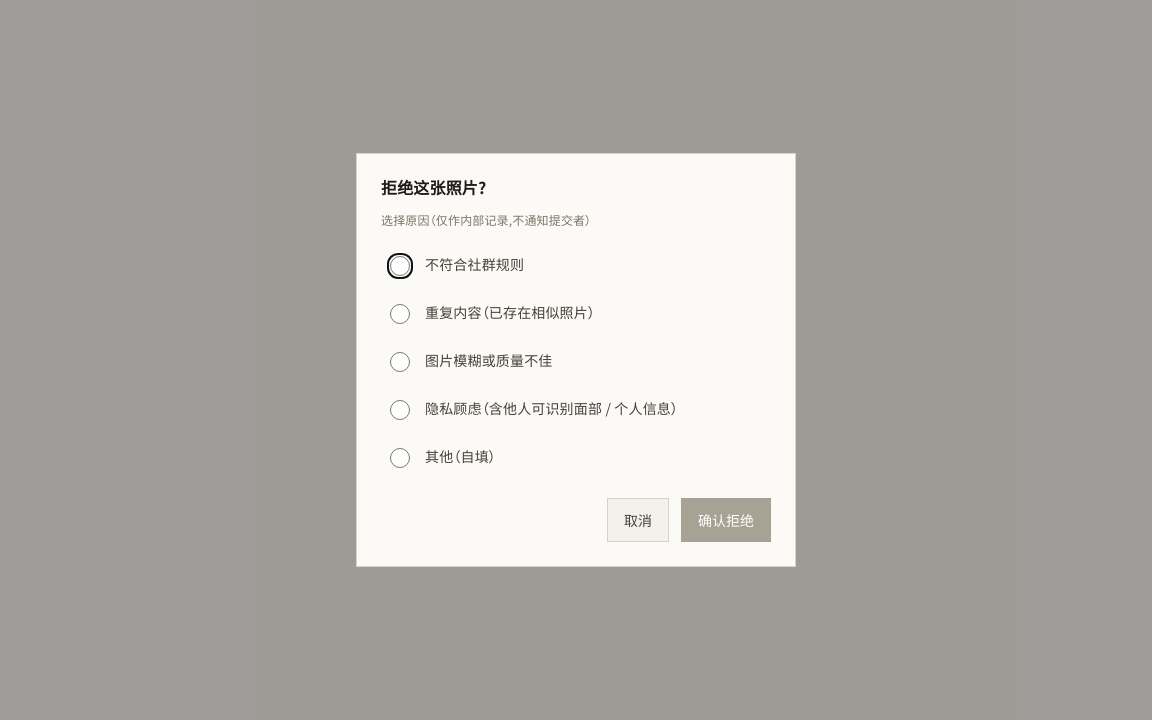
Test case: RejectModal › shows custom textarea when other selected, disables confirm if empty
The width and height of the screenshot is (1152, 720).
Step 1. Click the radio button with test id "rm-reason-other" → (400, 458), box [390, 448, 410, 468]
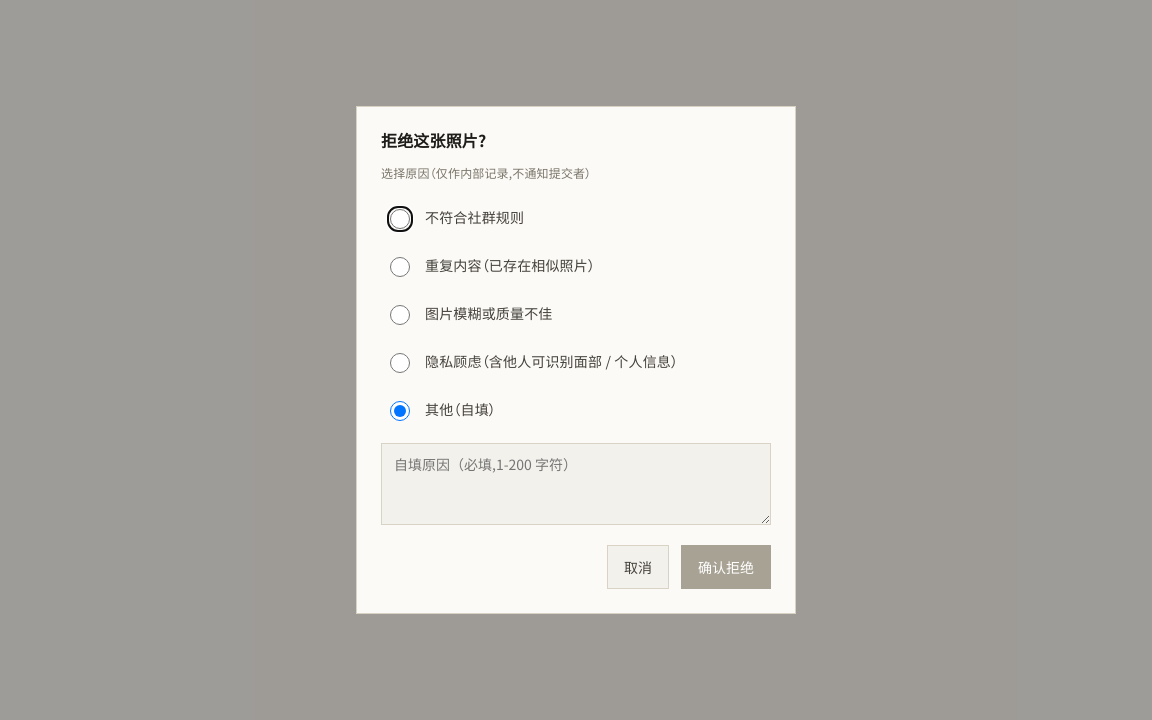
Expected: the button with test id "rm-confirm" is disabled, [681, 545, 771, 589]
Now the text box with test id "rm-custom" is shown
Step 2. Type "自定义原因" into the text box with test id "rm-custom" → (576, 484), box [381, 443, 771, 525]
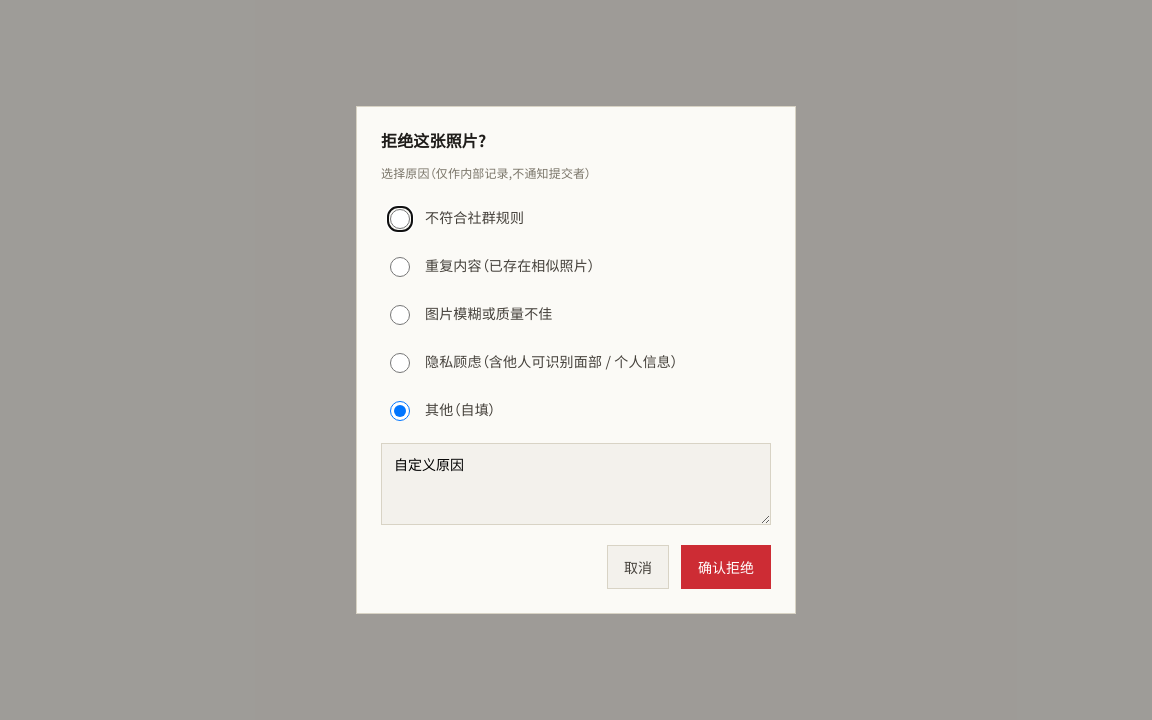
Now the button with test id "rm-confirm" is enabled, box [681, 545, 771, 589]
